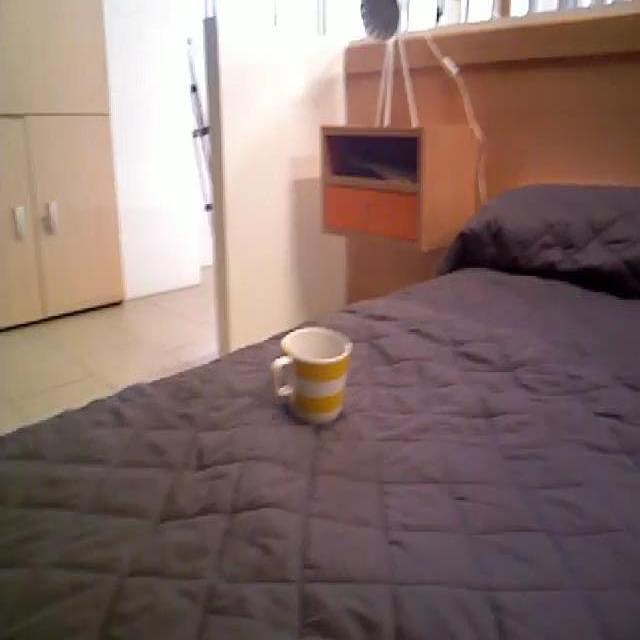cup: (272, 323, 354, 425)
